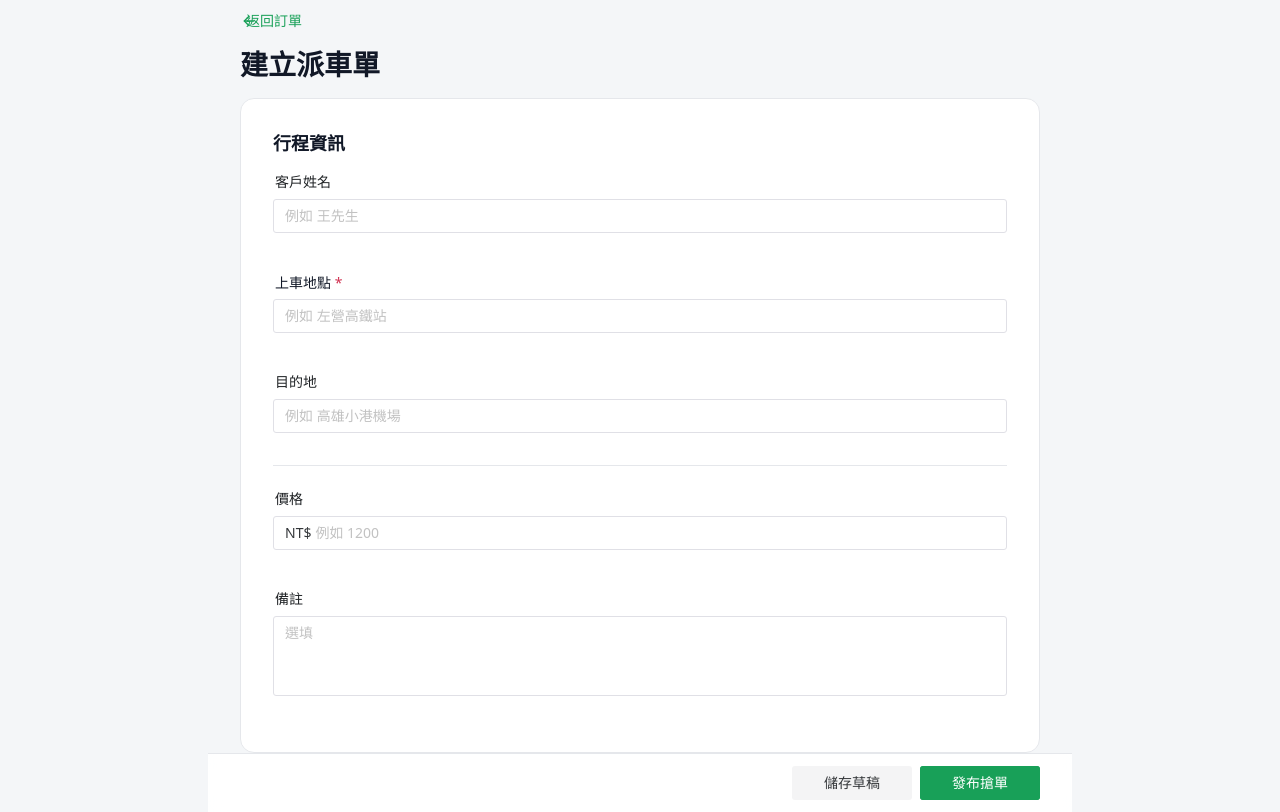
Test: OrderCreateView › blocks submit when required fields are empty
This screenshot has width=1280, height=812.
Click the button "儲存草稿": (852, 783) [792,766,912,800]
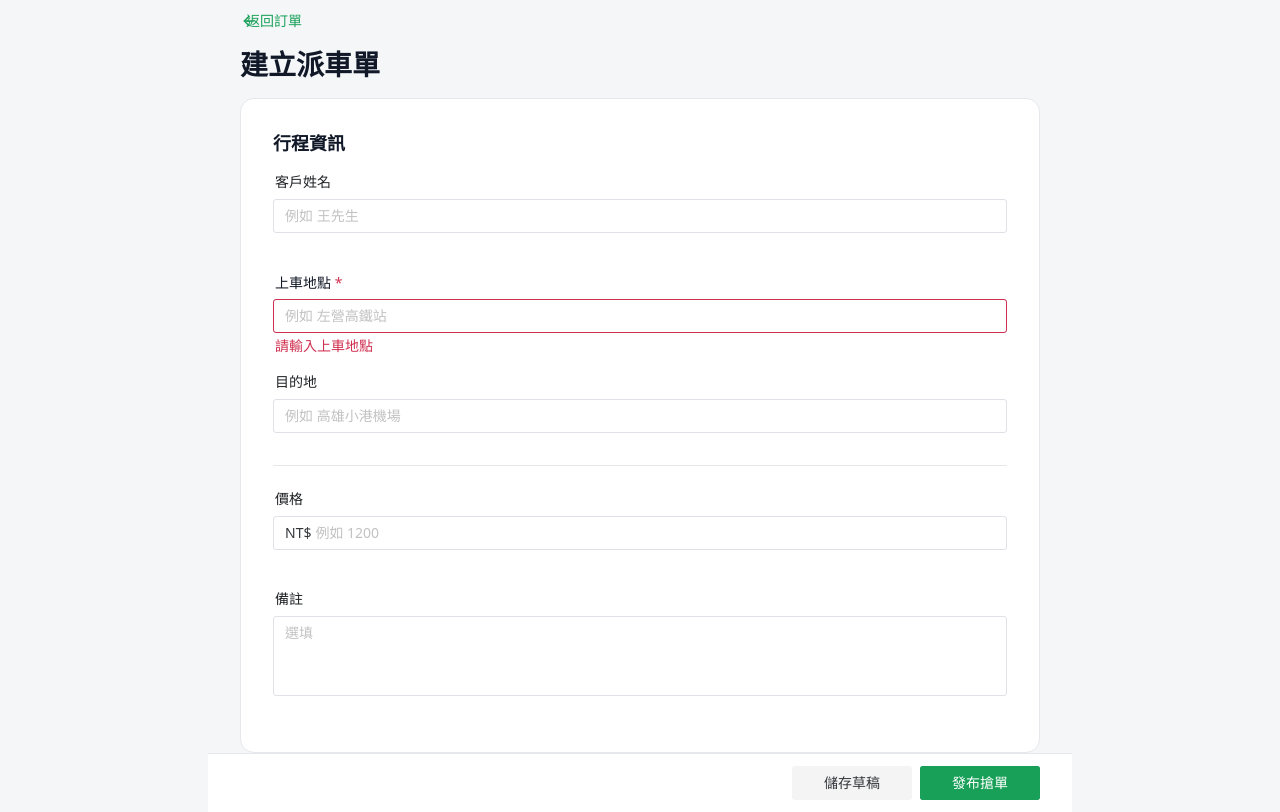
Check: the text "請輸入上車地點" is shown, box [275,336,373,355]
